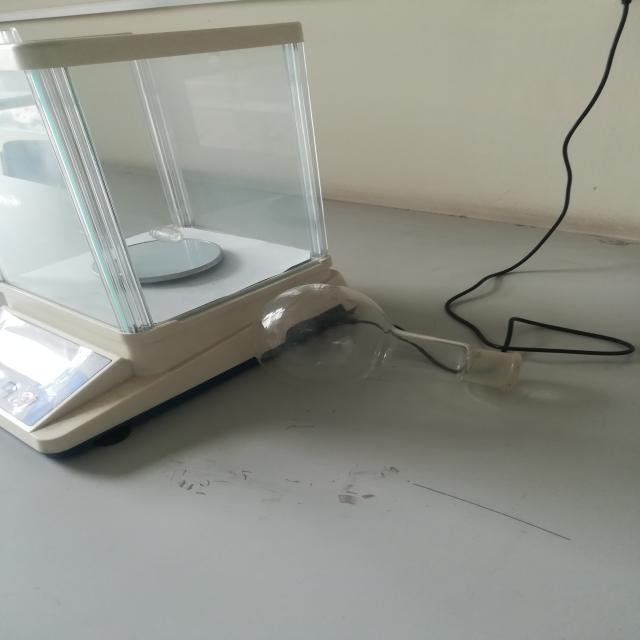Round_Bottom_Flask_Borosilicate_Glass_1_Neck: (239, 255, 568, 420)
